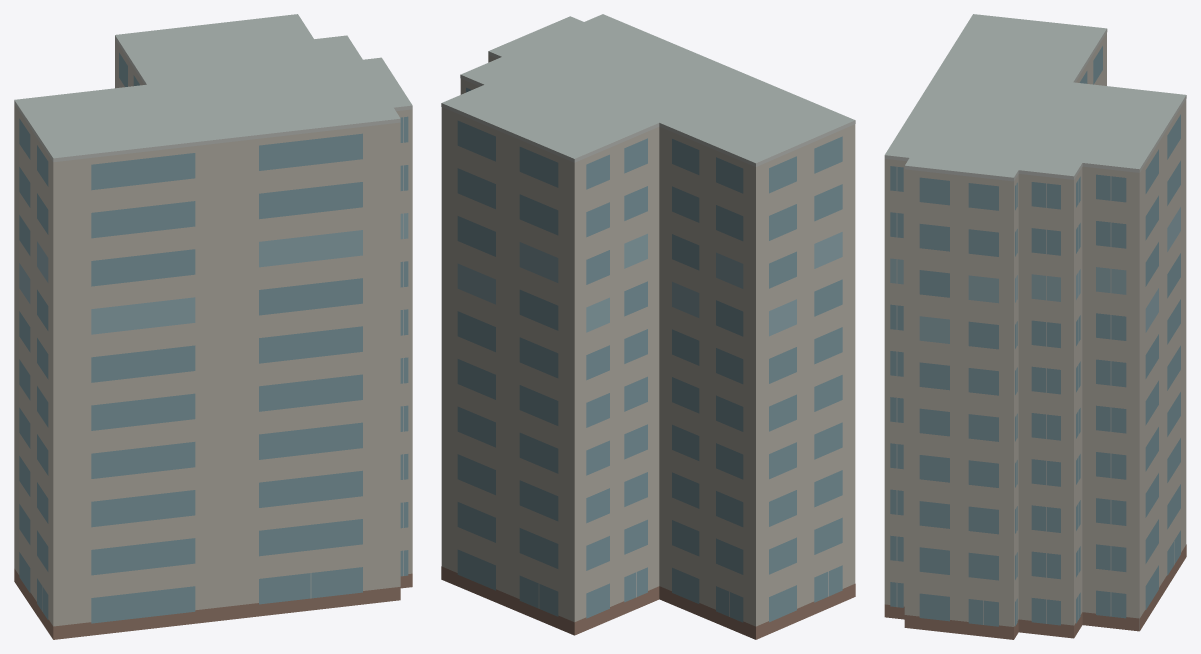
The model's file is survey-upis-32879543.glb.
3 views of the same model, side by side, from view 1: azimuth 30°, elevation 25°; view 2: azimuth 150°, elevation 25°; view 3: azimuth 270°, elevation 25° (orthographic). The views are drawn at different scales.
Parts seen in each view (by area): view 1: survey-upis-32879543.tmp; view 2: survey-upis-32879543.tmp; view 3: survey-upis-32879543.tmp.
Boxes of the visible parts, <box> form: survey-upis-32879543.tmp: <box>14,14,412,639</box>; survey-upis-32879543.tmp: <box>441,14,855,639</box>; survey-upis-32879543.tmp: <box>884,14,1186,639</box>.
Bounding box in the file's own units: 23.19 × 30.5 × 18.07.
